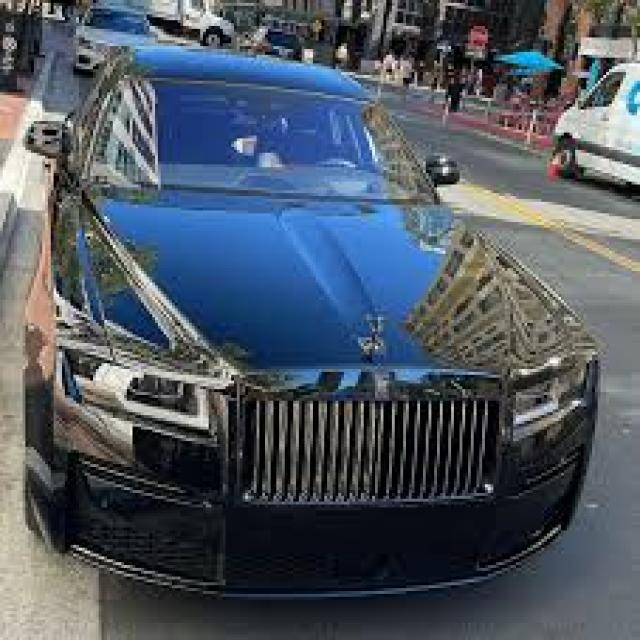car: (12, 46, 605, 600), (74, 2, 158, 78)
